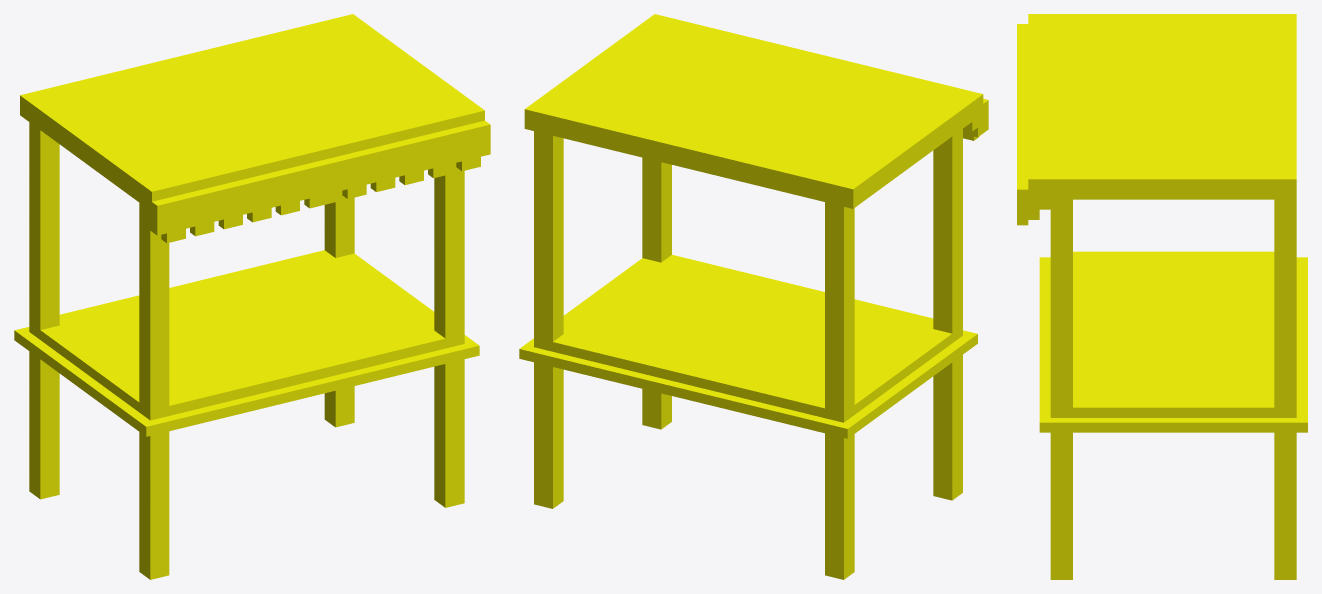
Rendered from voxel-village-stall.glb.
The picture shows the model from 3 angles, left to right: view 1: azimuth 30°, elevation 25°; view 2: azimuth 150°, elevation 25°; view 3: azimuth 270°, elevation 25°; orthographic projection. The views are drawn at different scales.
Parts seen in each view (by area): view 1: VS_Villagers_Stall; view 2: VS_Villagers_Stall; view 3: VS_Villagers_Stall.
Boxes of the visible parts, x1,y1,x2,y2 form: VS_Villagers_Stall: (14, 14, 490, 579); VS_Villagers_Stall: (519, 14, 988, 579); VS_Villagers_Stall: (1017, 14, 1307, 579).
Bounding box in the file's own units: 3.5 × 4 × 2.6.
